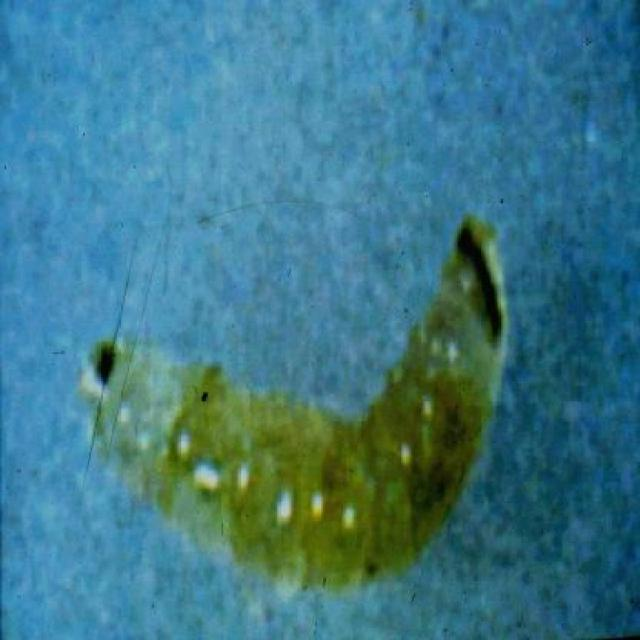whorl-maggot: (80, 213, 514, 598)
